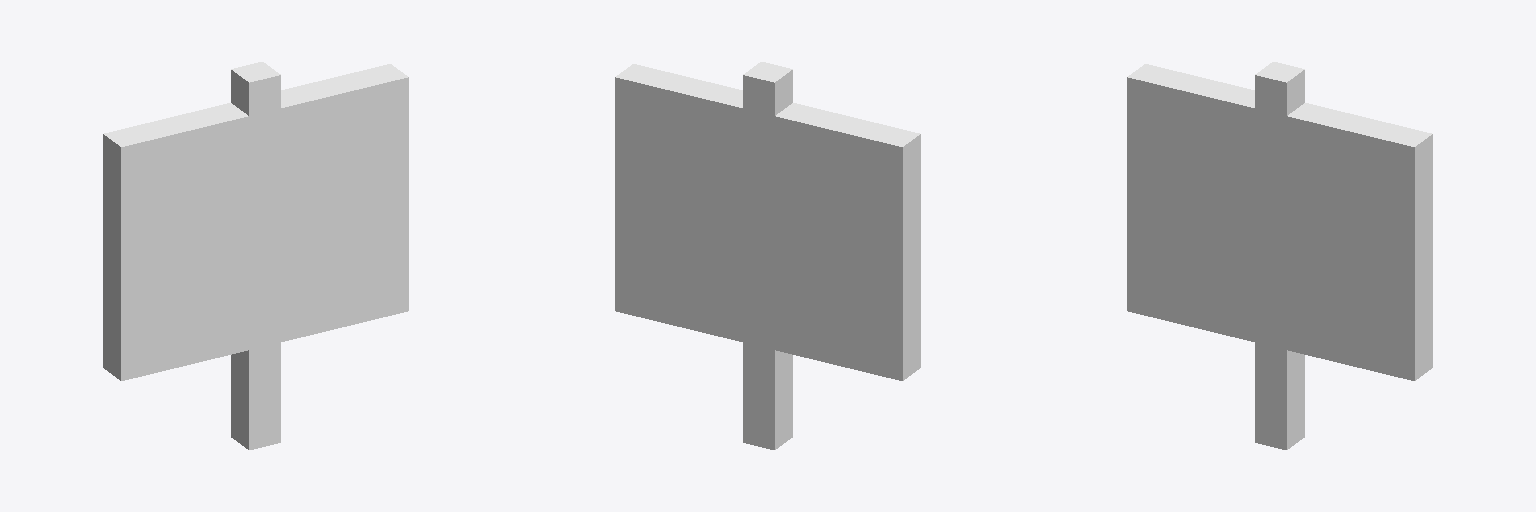
File: option_sign_1.obj
3 renders of one model, left to right at view 1: azimuth 30°, elevation 25°; view 2: azimuth 150°, elevation 25°; view 3: azimuth 330°, elevation 25°, orthographic.
Visible parts, largest first — view 1: object 1; view 2: object 1; view 3: object 1.
Part boxes in pixels (x1,y1,x2,y2): object 1: (103,62,408,449); object 1: (615,62,920,449); object 1: (1127,62,1432,449).
Size of the model in its own units: 0.9 by 1.1 by 0.1.